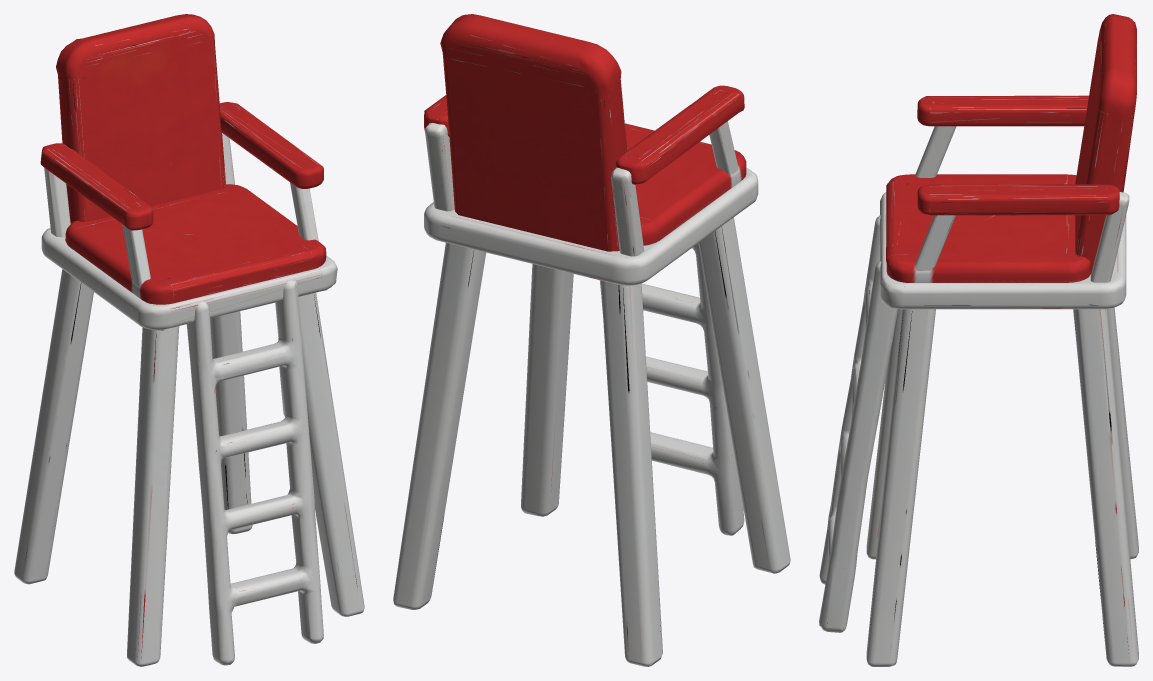
File: pool_chair.glb
3 renders of one model, left to right at view 1: azimuth 30°, elevation 25°; view 2: azimuth 150°, elevation 25°; view 3: azimuth 270°, elevation 25°, orthographic. The views are drawn at different scales.
Visible parts, largest first — view 1: geometry_0; view 2: geometry_0; view 3: geometry_0.
Part boxes in pixels (x1,y1,x2,y2): geometry_0: [14, 14, 364, 666]; geometry_0: [393, 14, 790, 666]; geometry_0: [819, 14, 1138, 666].
Bounding box in the file's own units: 0.4312 × 0.9517 × 0.4868.
1 material, 1 textured.
